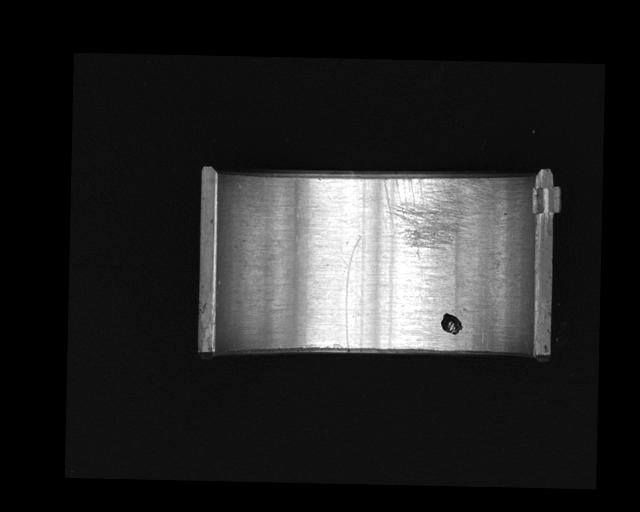blot: (439, 311, 464, 336)
nick: (344, 233, 362, 352)
scratch: (380, 175, 490, 261)
